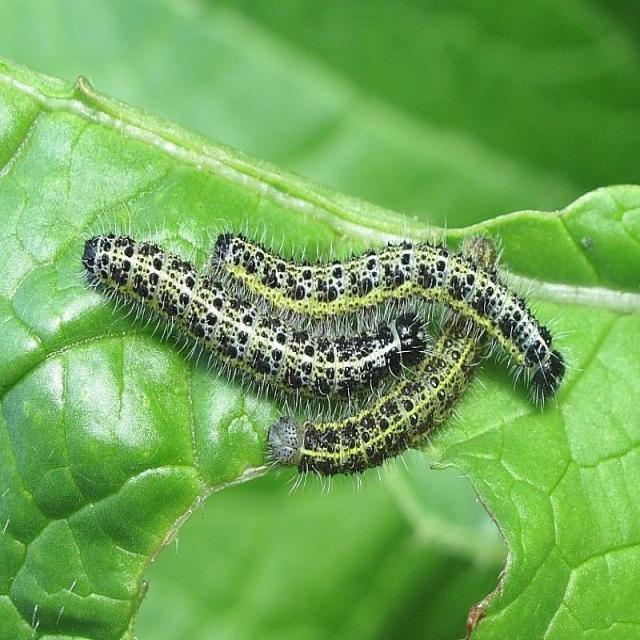caterpillar: (244, 198, 514, 520), (202, 197, 572, 399), (71, 215, 435, 408)
